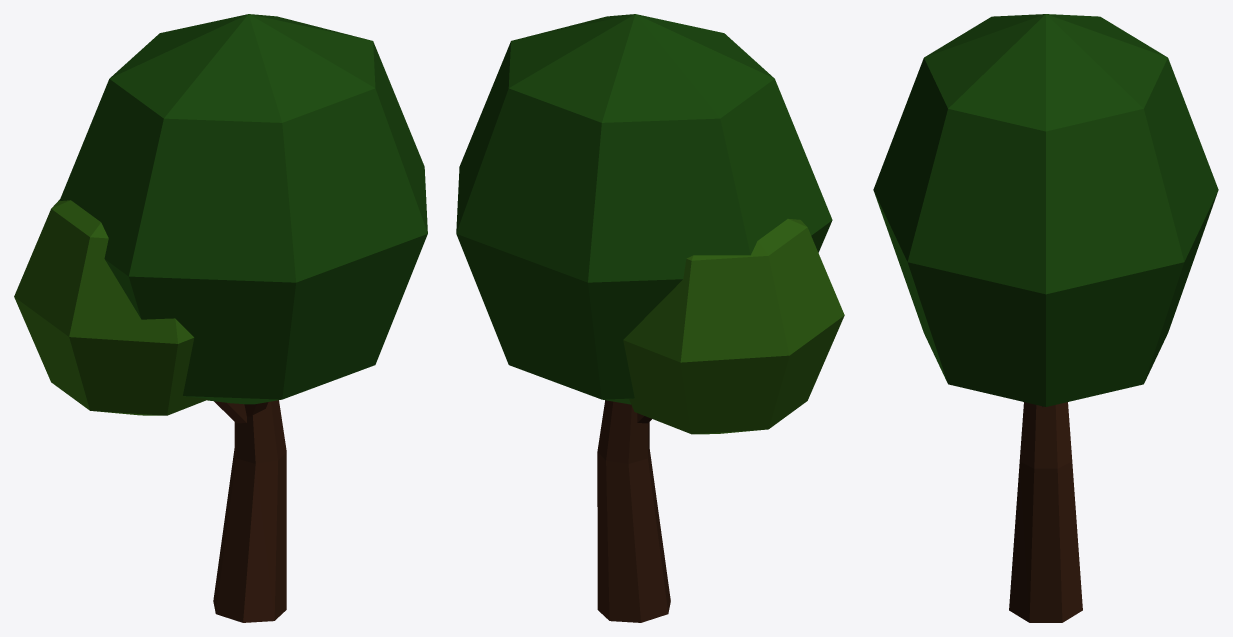
File: SM_Tree.fbx
The picture shows the model from 3 angles, left to right: view 1: azimuth 30°, elevation 25°; view 2: azimuth 150°, elevation 25°; view 3: azimuth 270°, elevation 25°; orthographic projection.
Parts seen in each view (by area): view 1: SM_Tree • FBX; view 2: SM_Tree • FBX; view 3: SM_Tree • FBX.
Part boxes in pixels (box(x1,y1,x2,y2)): SM_Tree • FBX: box(14, 14, 427, 622); SM_Tree • FBX: box(456, 14, 844, 622); SM_Tree • FBX: box(873, 14, 1218, 622).
Bounding box in the file's own units: 505 × 409 × 778.
